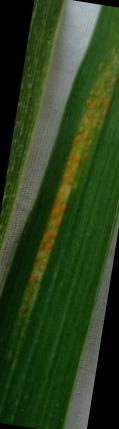Wheat: (17, 62, 116, 301)
